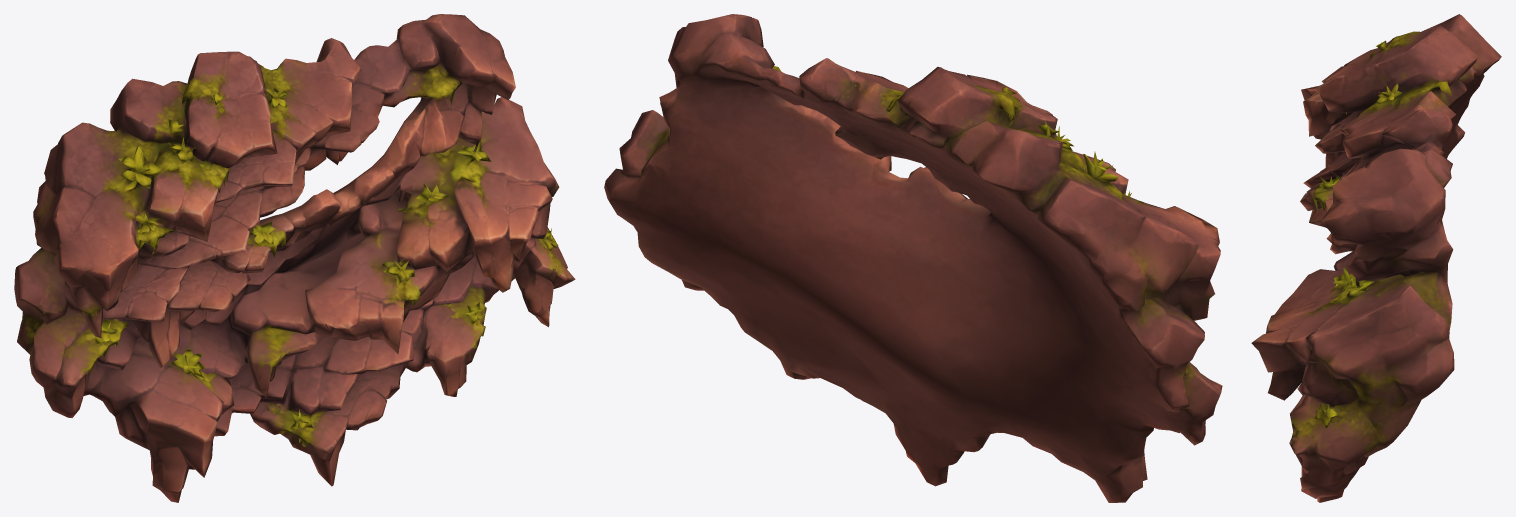
File: techo de cueva 6.glb
The picture shows the model from 3 angles, left to right: view 1: azimuth 30°, elevation 25°; view 2: azimuth 150°, elevation 25°; view 3: azimuth 270°, elevation 25°; orthographic projection. The views are drawn at different scales.
Visible parts, largest first — view 1: tripo_node_1220be78-2ecb-4aba-b302-6c7c60077ca3; view 2: tripo_node_1220be78-2ecb-4aba-b302-6c7c60077ca3; view 3: tripo_node_1220be78-2ecb-4aba-b302-6c7c60077ca3.
Part boxes in pixels (<box>): tripo_node_1220be78-2ecb-4aba-b302-6c7c60077ca3: <box>14,14,575,502</box>; tripo_node_1220be78-2ecb-4aba-b302-6c7c60077ca3: <box>604,14,1222,502</box>; tripo_node_1220be78-2ecb-4aba-b302-6c7c60077ca3: <box>1251,14,1501,502</box>.
Bounding box in the file's own units: 1 × 0.7545 × 0.3908.
1 material, 1 textured.
